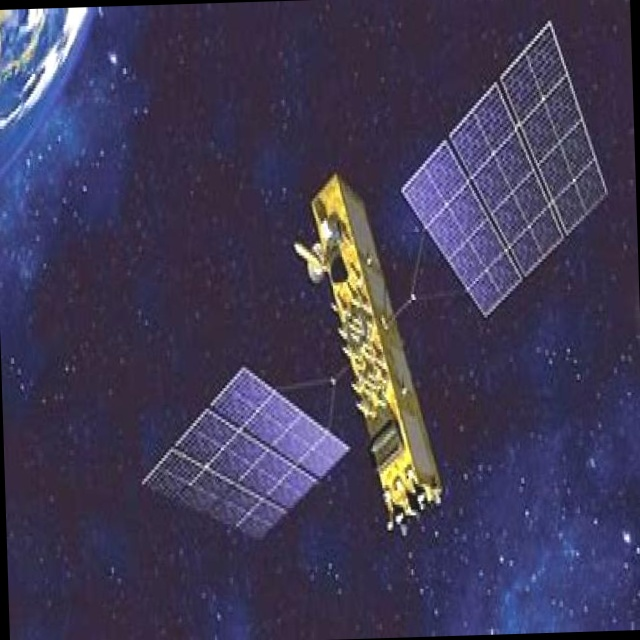satellite: (117, 22, 640, 593)
